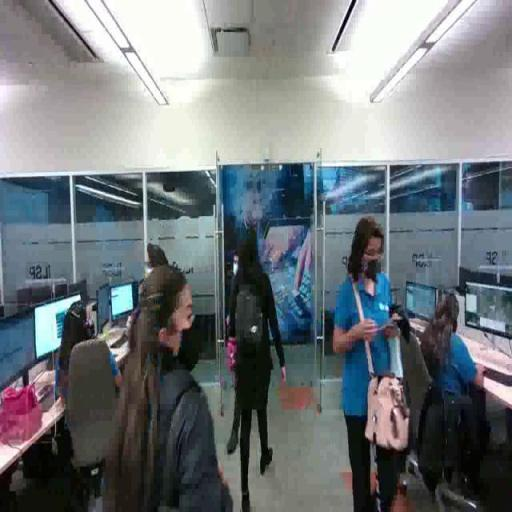person: (109, 261, 231, 512), (333, 215, 407, 512), (234, 229, 287, 512), (229, 251, 242, 458)
